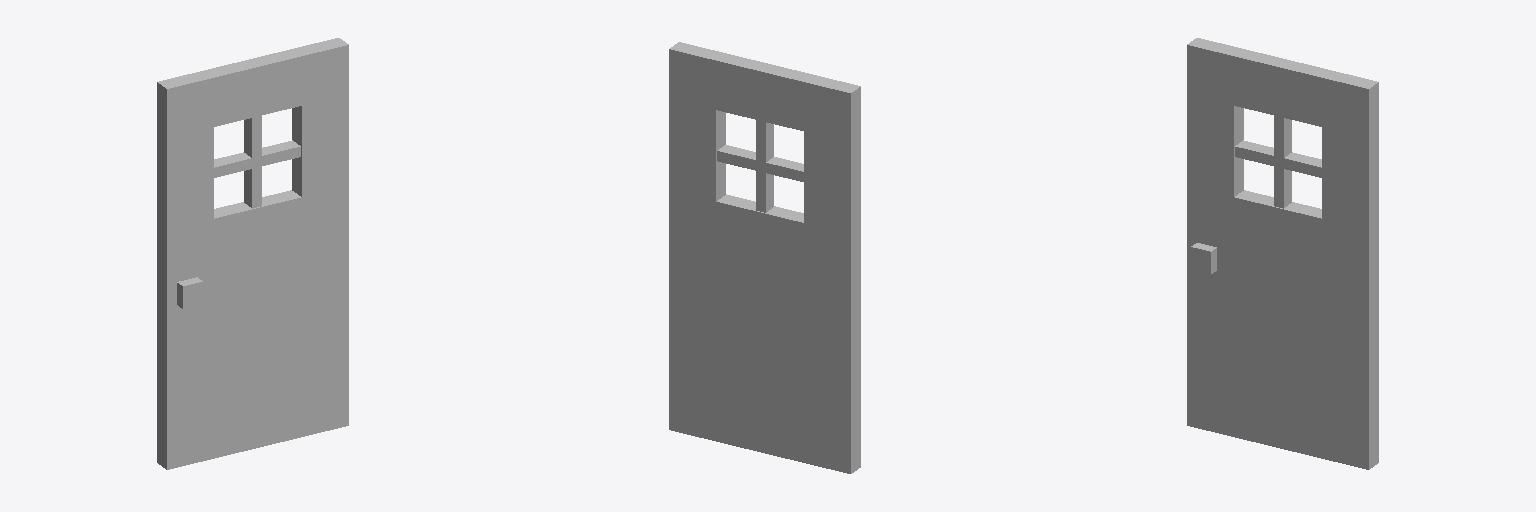
Rendered from Door_Closed.obj.
The picture shows the model from 3 angles: view 1: azimuth 30°, elevation 25°; view 2: azimuth 150°, elevation 25°; view 3: azimuth 330°, elevation 25°; orthographic projection.
Visible parts, largest first — view 1: Door_Closed_Cube.466; view 2: Door_Closed_Cube.466; view 3: Door_Closed_Cube.466.
Part boxes in pixels (x1,y1,x2,y2): Door_Closed_Cube.466: (157,38,348,469); Door_Closed_Cube.466: (669,42,860,473); Door_Closed_Cube.466: (1187,38,1378,469).
Size of the model in its own units: 2 by 4 by 0.3023.